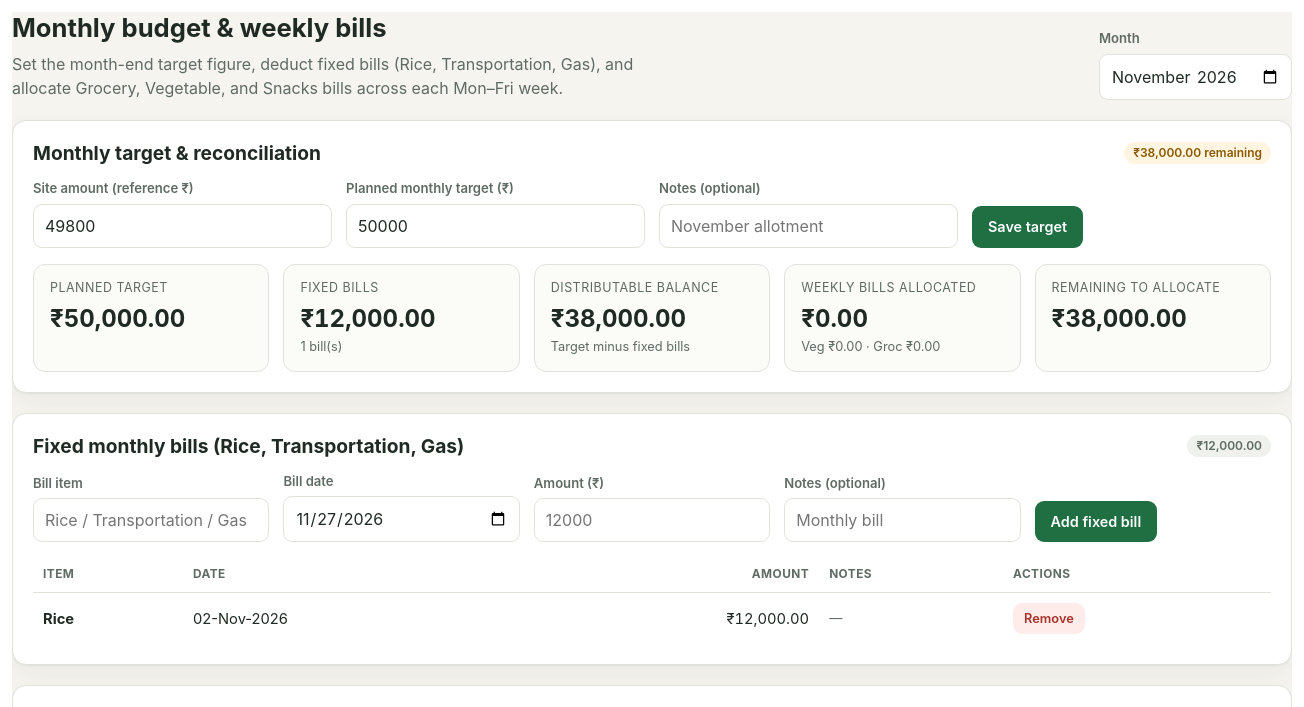
Test: BudgetPlanner screen › adds a fixed bill and updates the distributable balance
This screenshot has width=1304, height=707.
Check: the text "Rice" is shown, box [43,610,74,628]
Type "Gas" into the field labelled "Bill item". click: (151, 520)
box: [33,498,269,542]
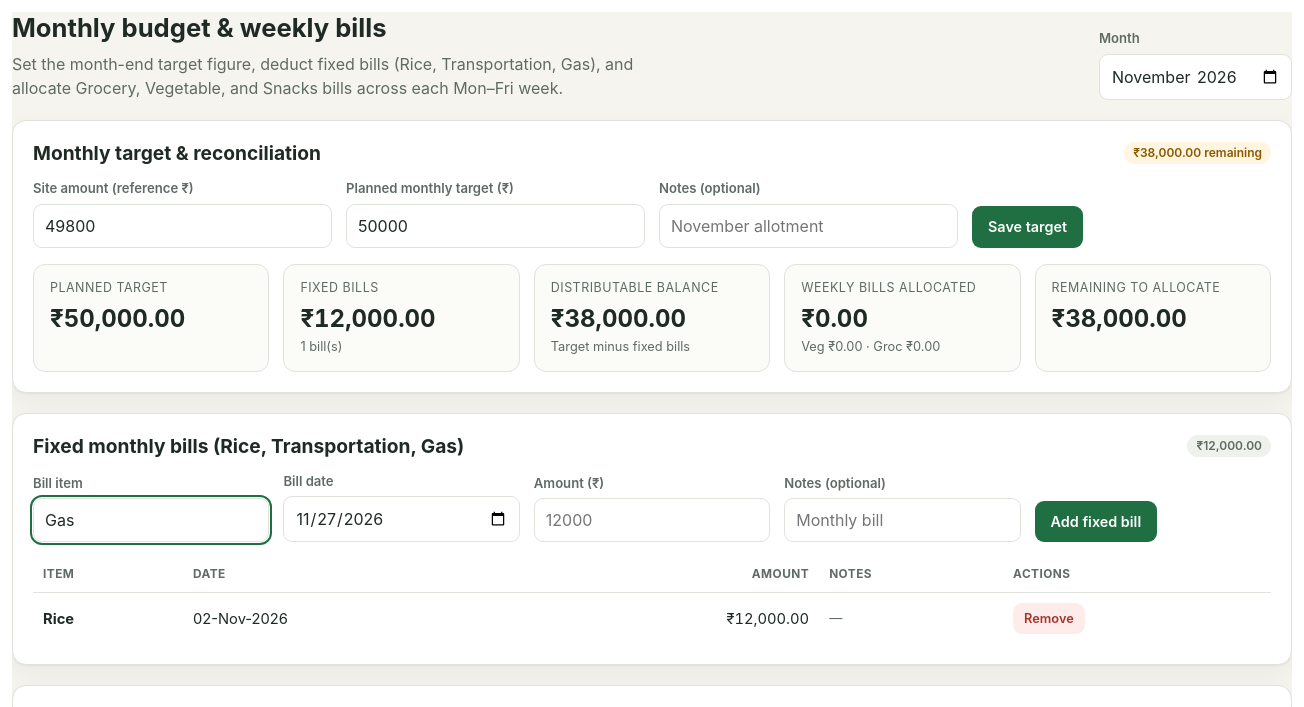
Type "3000" into the number field labelled "Amount (₹)". click: (652, 520)
box: [534,498,770,542]
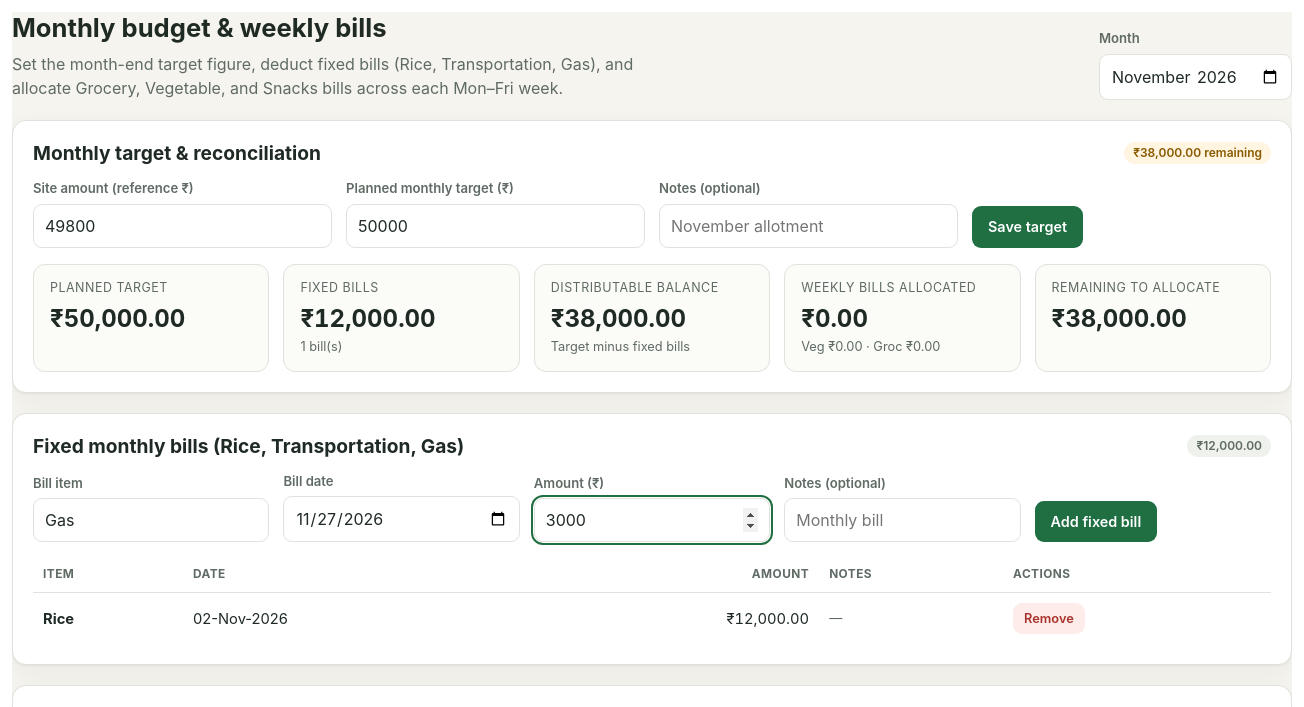
Click the button "Add fixed bill". click: (1096, 522)
box: [1035,501,1157,542]
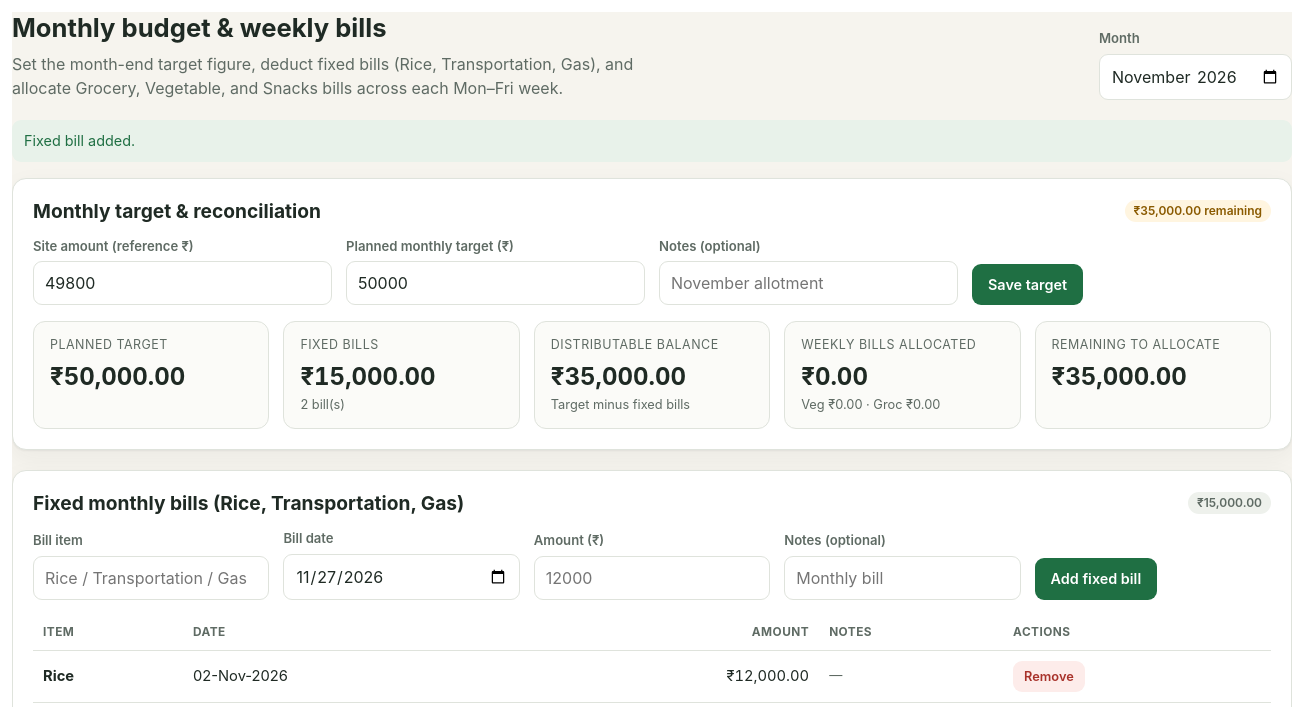
Check: the text "₹35,000.00" below "Distributable balance" is shown, box [551,362,686,391]
